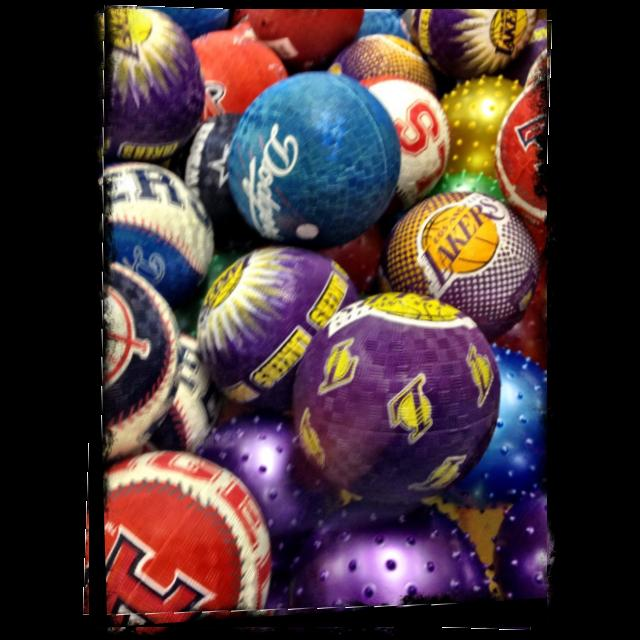Football: (89, 9, 547, 627)
